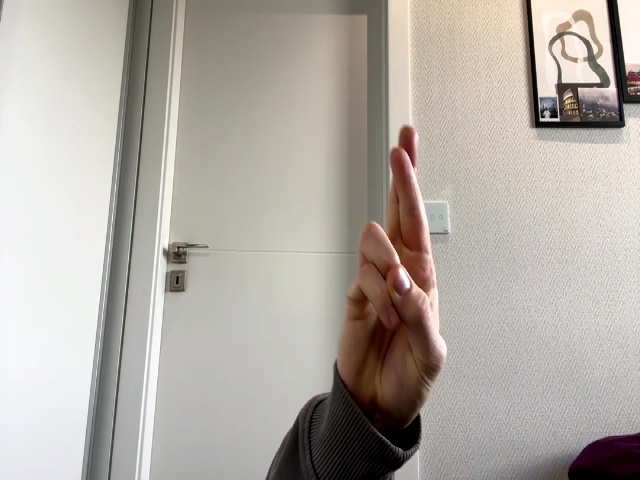R: (342, 126, 446, 388)
